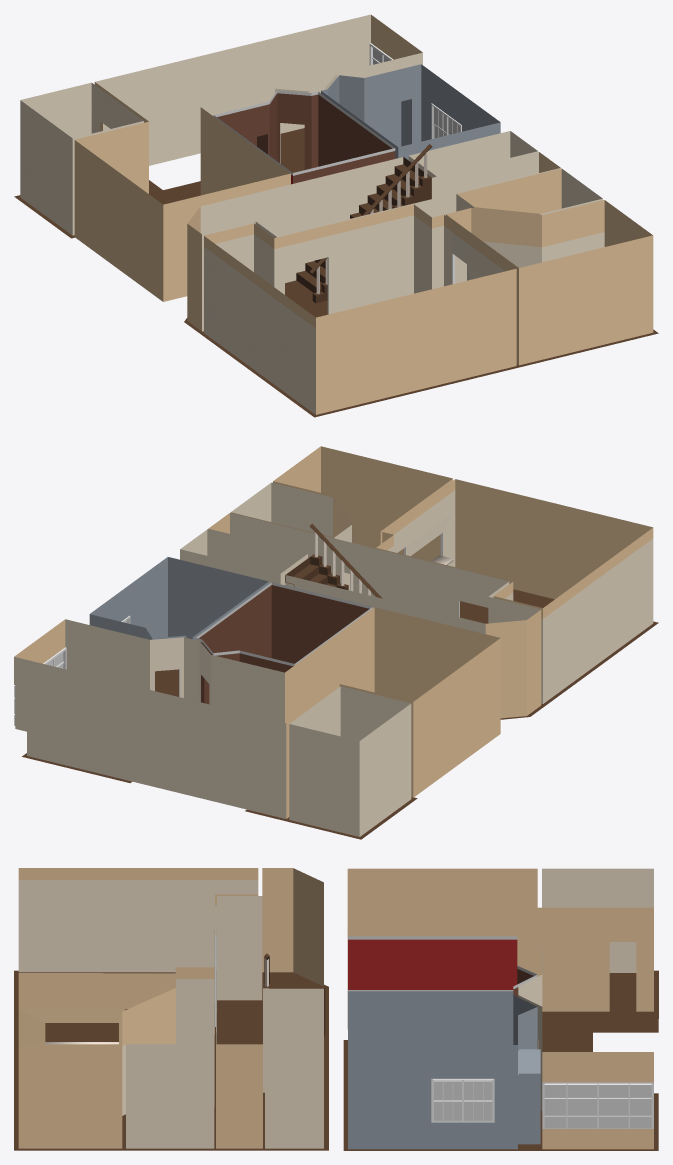
File: apartment.fbx
3 renders of one model, top to bottom at view 1: azimuth 30°, elevation 25°; view 2: azimuth 150°, elevation 25°; view 3: azimuth 270°, elevation 25°, orthographic. The views are drawn at different scales.
Parts seen in each view (by area): view 1: Cylinder.009, Cube.003, Cube.018, Cube.020, Cube.019, walls 1st.002, walls 1st.001; view 2: Cube.003, Cylinder.009, Cube.020, Cube.019, Cube.018, walls 1st.002, walls 1st.001; view 3: Cylinder.009, Cube.003, Cube.018, walls 1st.002, Cube.019, walls 1st.001, Cube.020.
Part boxes in pixels (left/top/right/bottom): Cylinder.009: left=184, top=144, right=658, bottom=417; Cube.003: left=14, top=14, right=422, bottom=301; Cube.018: left=321, top=64, right=500, bottom=160; Cube.020: left=20, top=82, right=143, bottom=235; Cube.019: left=213, top=90, right=395, bottom=184; walls 1st.002: left=456, top=168, right=602, bottom=214; walls 1st.001: left=408, top=131, right=537, bottom=177; Cube.003: left=14, top=607, right=500, bottom=839; Cylinder.009: left=208, top=446, right=658, bottom=719; Cube.020: left=289, top=686, right=411, bottom=836; Cube.019: left=195, top=582, right=372, bottom=704; Cube.018: left=89, top=557, right=268, bottom=696; walls 1st.002: left=230, top=482, right=351, bottom=590; walls 1st.001: left=180, top=529, right=307, bottom=585; Cylinder.009: left=14, top=868, right=328, bottom=1150; Cube.003: left=343, top=868, right=658, bottom=1150; Cube.018: left=348, top=991, right=540, bottom=1149; walls 1st.002: left=126, top=989, right=214, bottom=1148; Cube.019: left=348, top=936, right=538, bottom=1048; walls 1st.001: left=265, top=991, right=323, bottom=1148; Cube.020: left=542, top=868, right=653, bottom=972.
Bounding box in the file's own units: 1231 × 430 × 1802.
